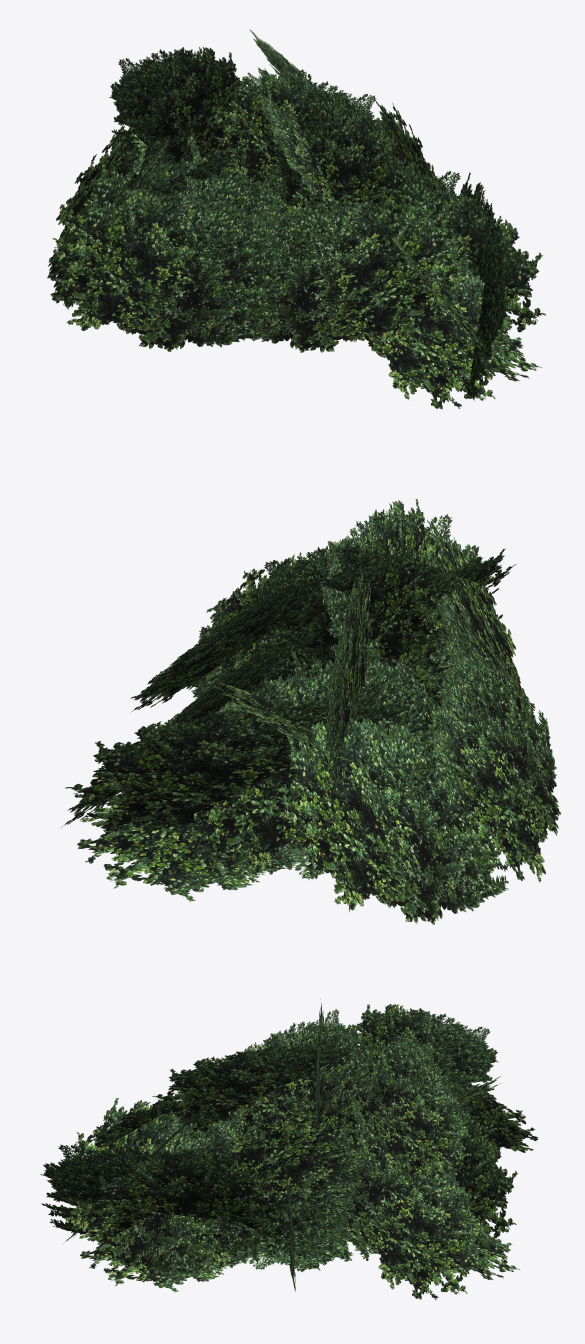
File: trees_and_bush_pack_mush_big.glb
3 renders of one model, top to bottom at view 1: azimuth 30°, elevation 25°; view 2: azimuth 150°, elevation 25°; view 3: azimuth 270°, elevation 25°, orthographic. The views are drawn at different scales.
Visible parts, largest first — view 1: MushBig; view 2: MushBig; view 3: MushBig.
Boxes of the visible parts, <box> form: MushBig: <box>47,29,545,409</box>; MushBig: <box>61,499,560,924</box>; MushBig: <box>40,999,537,1299</box>.
Size of the model in its own units: 2.55 by 1.74 by 3.47.
Materials: 1 (1 with a texture image).
